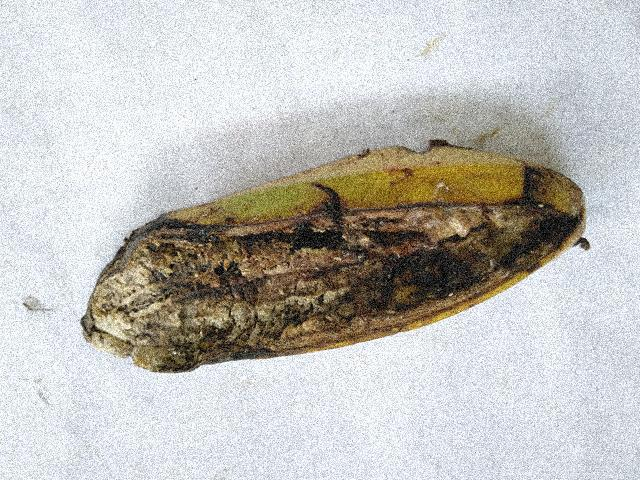rotten: (58, 117, 597, 403)
